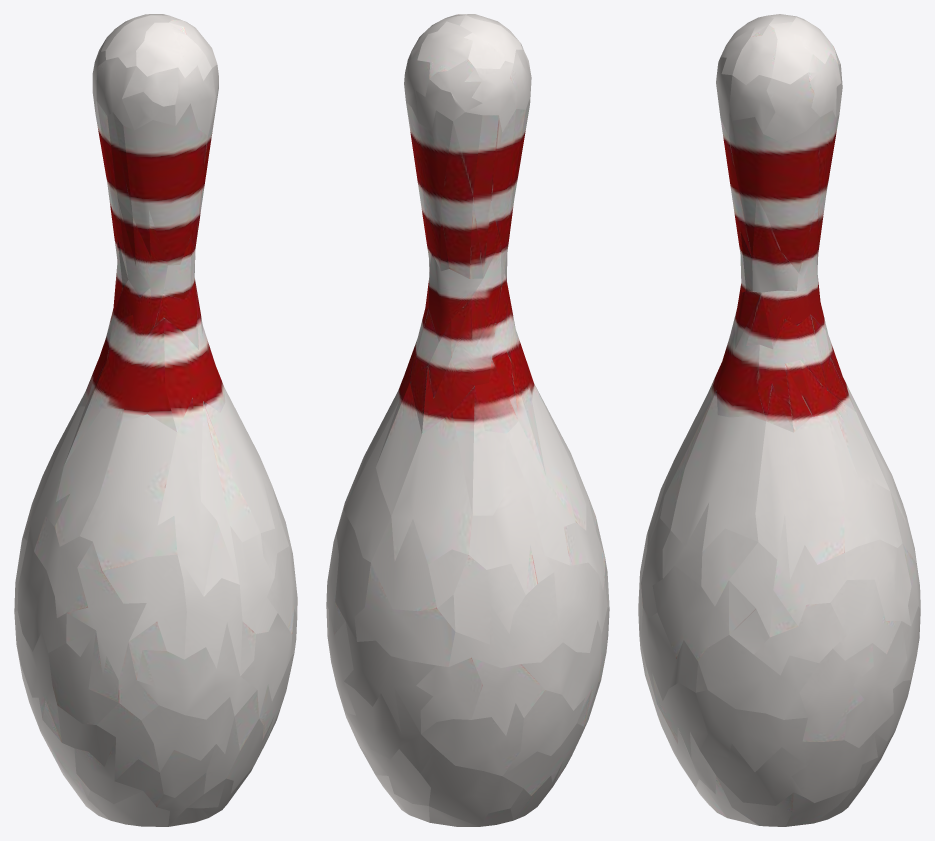
The model's file is bowling_pin.glb.
3 views of the same model, side by side, from view 1: azimuth 30°, elevation 25°; view 2: azimuth 150°, elevation 25°; view 3: azimuth 270°, elevation 25° (orthographic).
Bounding box in the file's own units: 0.6294 × 1.9 × 0.6279.
Materials: 1 (1 with a texture image).
